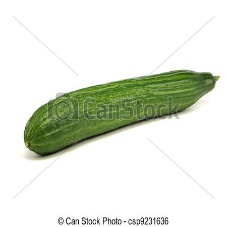cucumber: (22, 67, 218, 158)
